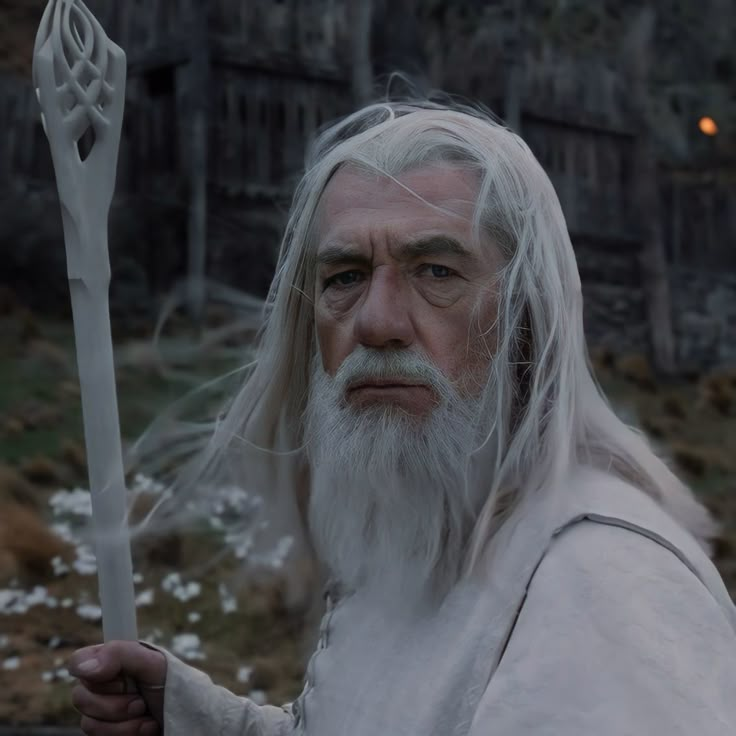gandalf gray: (14, 11, 709, 726)
